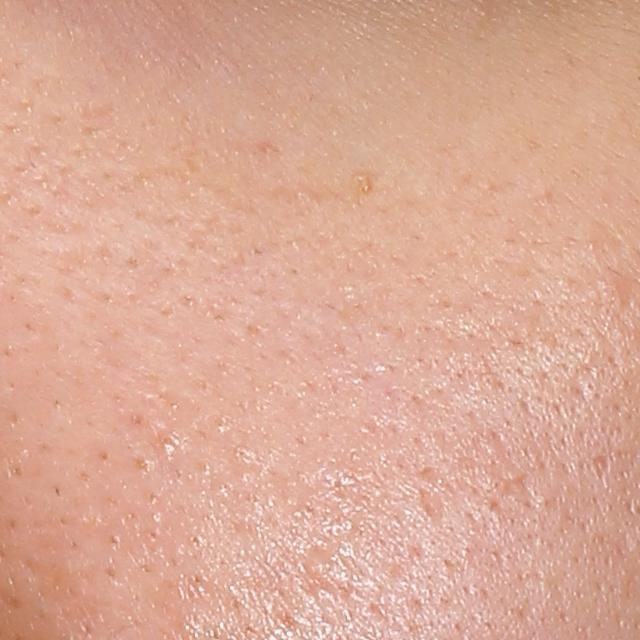atrophic_scar: (496, 457, 545, 513), (576, 451, 614, 489), (416, 487, 448, 525)
